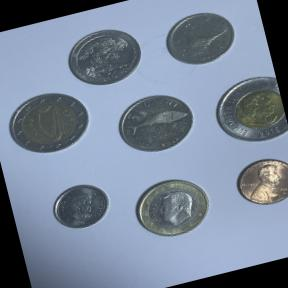coin: (122, 168, 222, 252), (200, 66, 288, 159), (107, 81, 204, 165), (0, 81, 96, 164), (57, 18, 152, 94), (43, 175, 116, 239), (224, 148, 288, 217)
